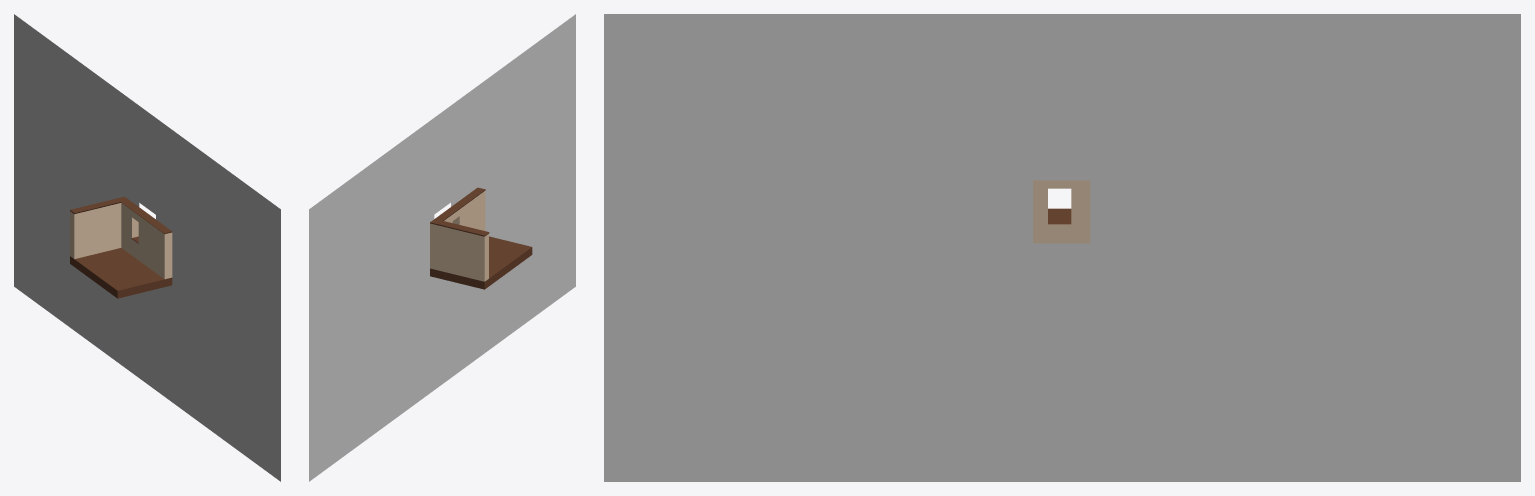
Rendered from room.fbx_structure.fbx.
The picture shows the model from 3 angles, left to right: view 1: azimuth 30°, elevation 25°; view 2: azimuth 150°, elevation 25°; view 3: azimuth 270°, elevation 25°; orthographic projection. The views are drawn at different scales.
Visible parts, largest first — view 1: light-cover, walls, floor; view 2: light-cover, walls, floor; view 3: light-cover, walls.
Part boxes in pixels (bbox=[...]): light-cover: bbox=[14, 14, 280, 481]; walls: bbox=[70, 196, 172, 279]; floor: bbox=[70, 248, 172, 298]; light-cover: bbox=[309, 14, 575, 481]; walls: bbox=[430, 187, 489, 281]; floor: bbox=[430, 236, 532, 289]; light-cover: bbox=[604, 14, 1520, 481]; walls: bbox=[1033, 180, 1090, 243].
Bounding box in the file's own units: 10.39 × 45.2 × 80.24.
